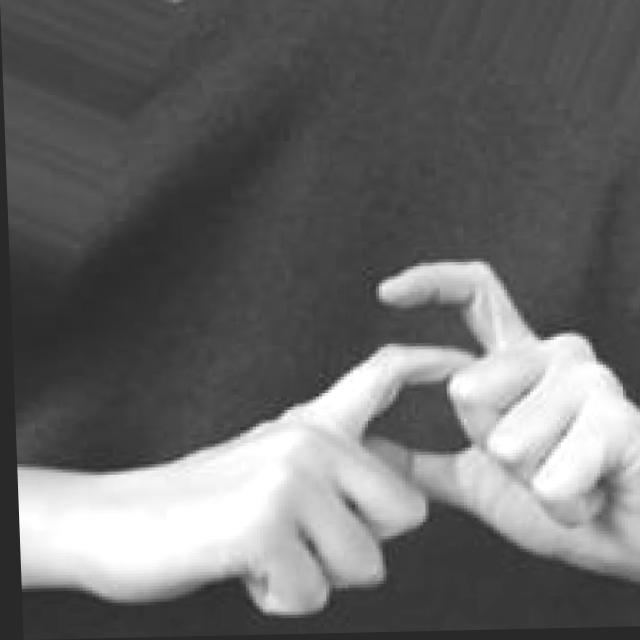G: (80, 248, 640, 622)
